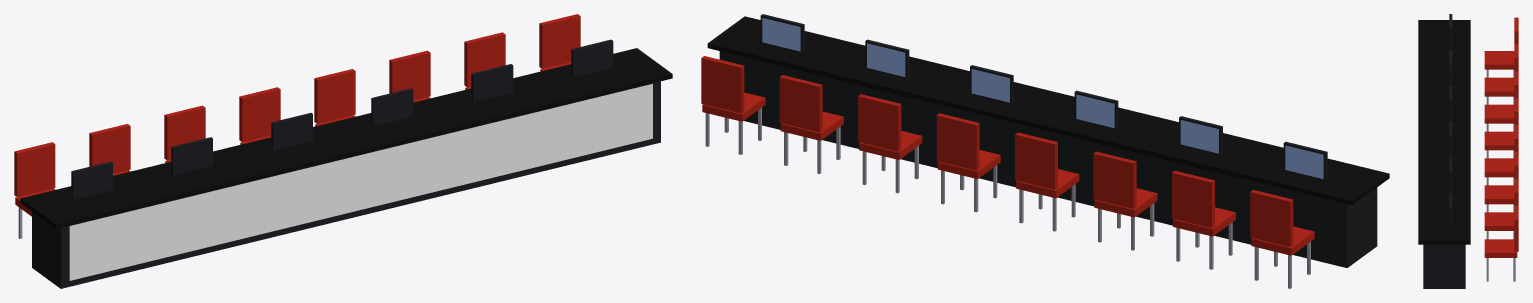
The model's file is SM_ScorerTable.fbx.
3 views of the same model, side by side, from view 1: azimuth 30°, elevation 25°; view 2: azimuth 150°, elevation 25°; view 3: azimuth 270°, elevation 25° (orthographic). The views are drawn at different scales.
Parts seen in each view (by area): view 1: SM_ScorerTable; view 2: SM_ScorerTable; view 3: SM_ScorerTable.
Part boxes in pixels (x1=…): SM_ScorerTable: x1=14, y1=14, x2=672, y2=288; SM_ScorerTable: x1=701, y1=14, x2=1389, y2=288; SM_ScorerTable: x1=1418, y1=14, x2=1518, y2=288.
Bounding box in the file's own units: 740 × 110 × 142.
